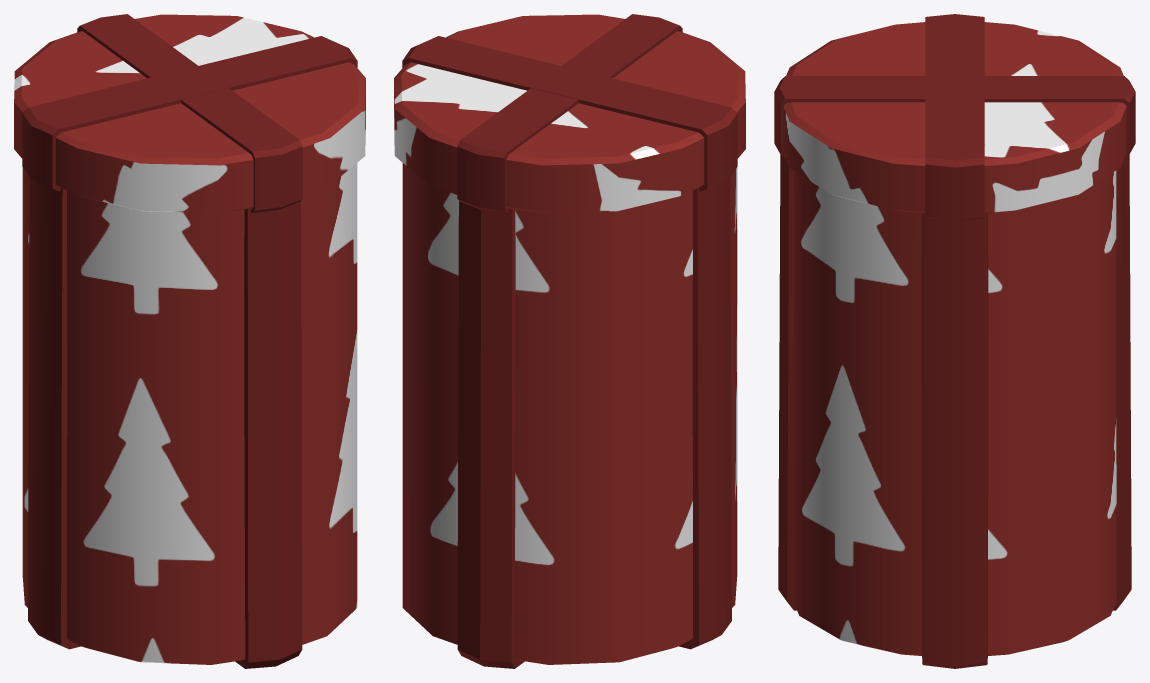
File: PresentBox_Cylinder_Tall_01.fbx
3 views of the same model, side by side, from view 1: azimuth 30°, elevation 25°; view 2: azimuth 150°, elevation 25°; view 3: azimuth 270°, elevation 25° (orthographic).
Parts seen in each view (by area): view 1: PresentBox_Cylinder_Tall_01, PresentBox_Cylinder_Tall_01_Top; view 2: PresentBox_Cylinder_Tall_01, PresentBox_Cylinder_Tall_01_Top; view 3: PresentBox_Cylinder_Tall_01, PresentBox_Cylinder_Tall_01_Top.
Boxes of the visible parts, x1,y1,x2,y2 form: PresentBox_Cylinder_Tall_01: [22, 163, 357, 668]; PresentBox_Cylinder_Tall_01_Top: [14, 14, 365, 213]; PresentBox_Cylinder_Tall_01: [402, 163, 737, 668]; PresentBox_Cylinder_Tall_01_Top: [394, 14, 745, 213]; PresentBox_Cylinder_Tall_01: [778, 154, 1131, 668]; PresentBox_Cylinder_Tall_01_Top: [774, 14, 1135, 220].
Bounding box in the file's own units: 0.3067 × 0.4818 × 0.3074.
